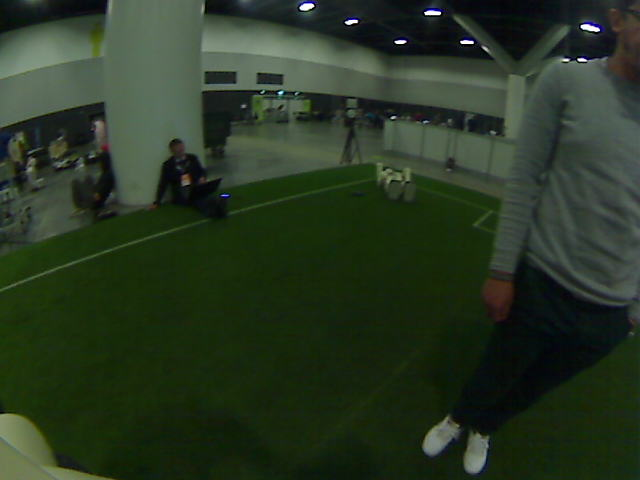robot: (389, 151, 413, 198)
